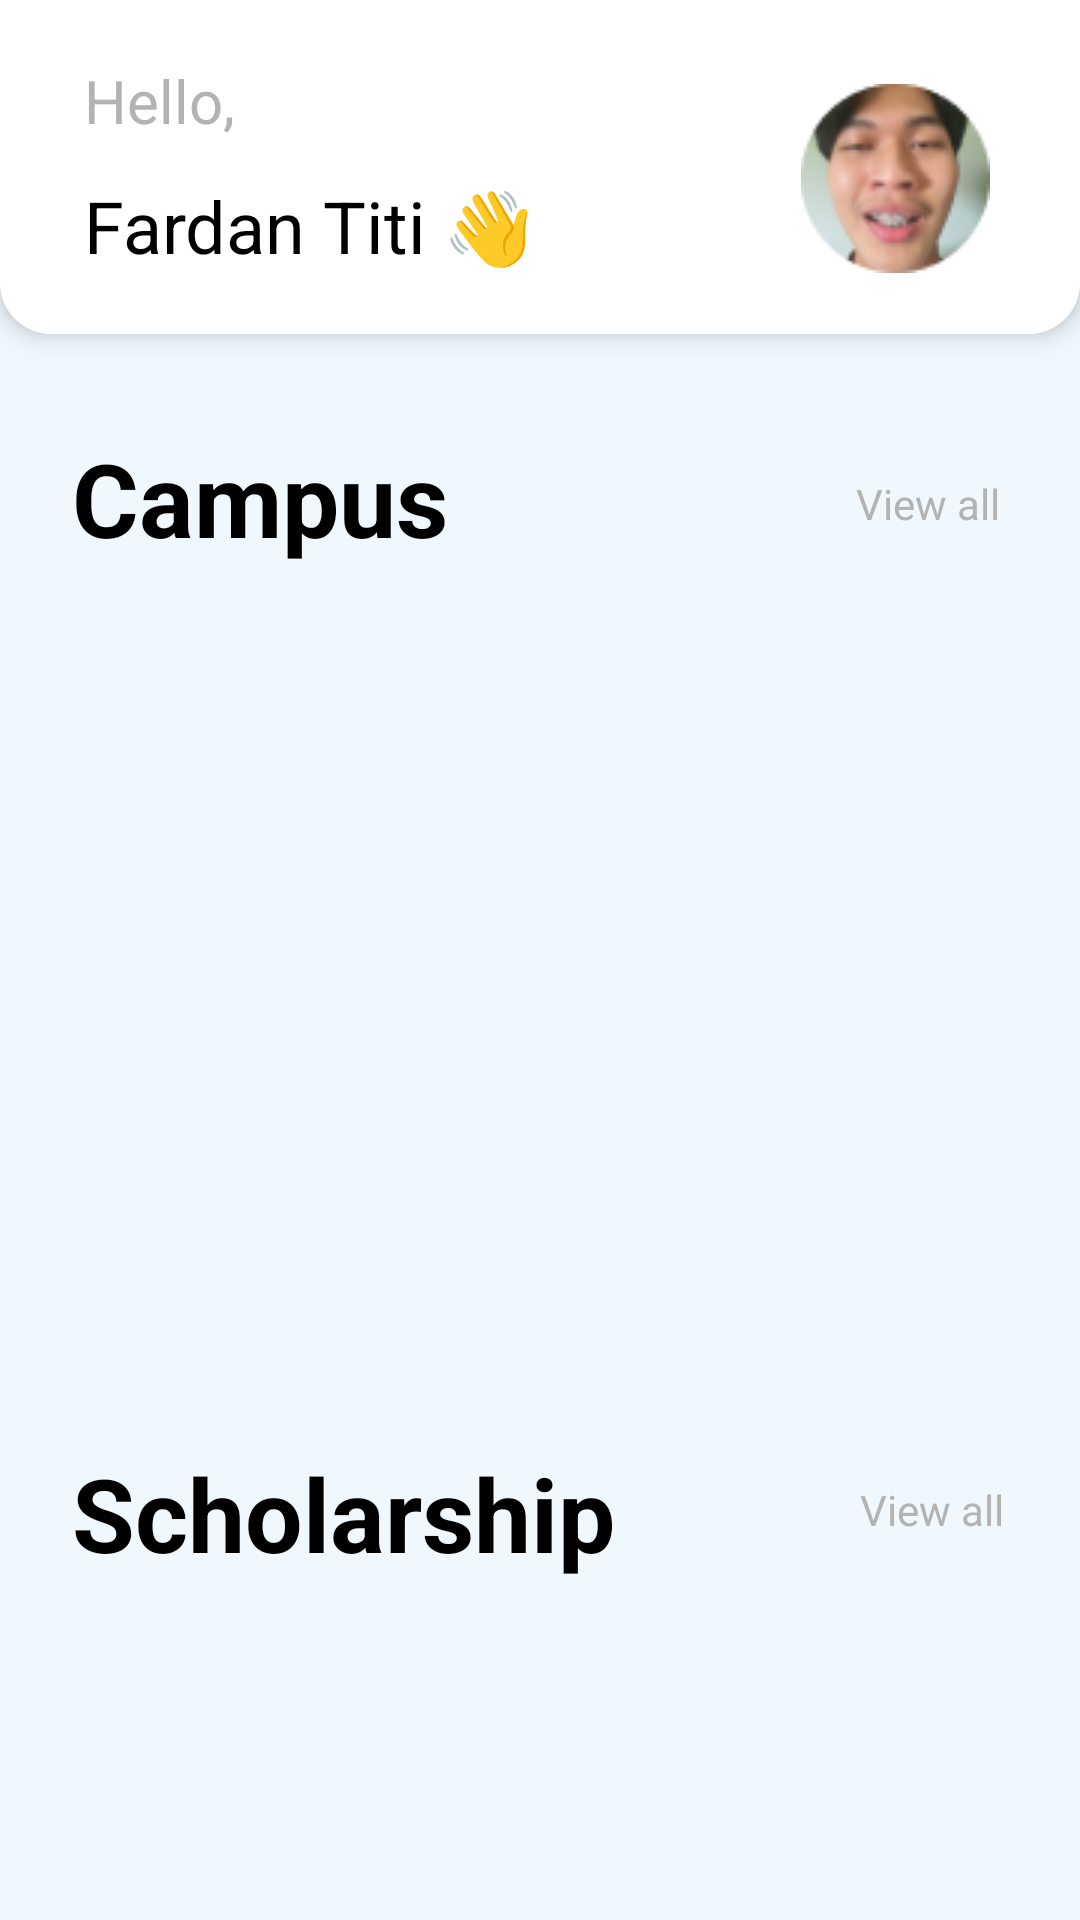

Screen size 1080 x 1920. Icon name, then its box in pixels as rect(x1, y1, x2, y2):
userprofile: rect(801, 84, 990, 273)
